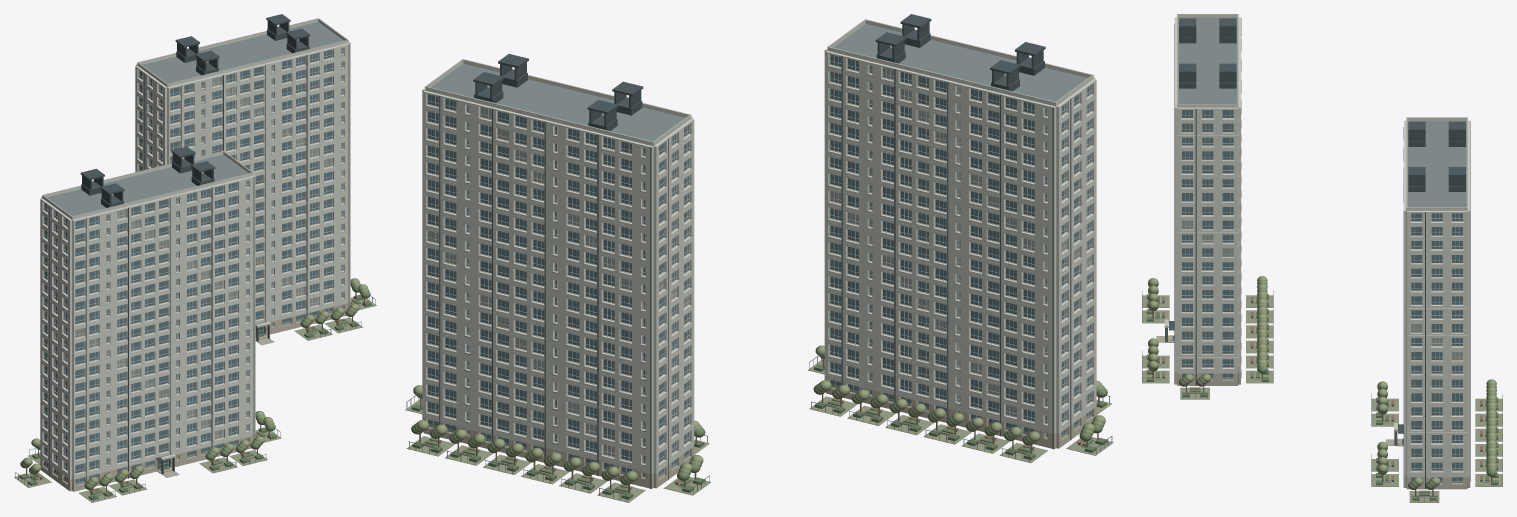
The picture shows the model from 3 angles, left to right: view 1: azimuth 30°, elevation 25°; view 2: azimuth 150°, elevation 25°; view 3: azimuth 270°, elevation 25°; orthographic projection. The views are drawn at different scales.
Parts seen in each view (by area): view 1: korean-facade-parts-d9dcd3, korean-facade-surface-69858d, korean-facade-parts-e0dfd3, korean-facade-parts-505f63, new-1, korean-facade-surface-9eaaa4, korean-facade-parts-c5c0ae, korean-facade-parts-9ba48a, korean-facade-parts-b8bcb2, korean-facade-parts-94a17c, korean-facade-parts-778b69, korean-facade-parts-718669 (+2 smaller); view 2: korean-facade-parts-d9dcd3, korean-facade-surface-69858d, korean-facade-parts-e0dfd3, korean-facade-parts-505f63, new-1, korean-facade-parts-9ba48a, korean-facade-surface-9eaaa4, korean-facade-parts-c5c0ae, korean-facade-parts-94a17c, korean-facade-parts-718669, korean-facade-parts-b8bcb2, korean-facade-parts-778b69 (+3 smaller); view 3: korean-facade-parts-d9dcd3, korean-facade-surface-69858d, new-1, korean-facade-parts-e0dfd3, korean-facade-parts-505f63, korean-facade-parts-9ba48a, korean-facade-parts-94a17c, korean-facade-parts-889976, korean-facade-surface-d9dcd3, korean-facade-parts-b8bcb2, korean-facade-parts-c5c0ae, korean-facade-parts-718669 (+5 smaller).
Boxes of the visible parts, bbox=[...] form: korean-facade-parts-d9dcd3: bbox=[40, 19, 350, 479]; korean-facade-surface-69858d: bbox=[44, 48, 343, 482]; korean-facade-parts-e0dfd3: bbox=[43, 48, 343, 473]; korean-facade-parts-505f63: bbox=[49, 14, 349, 490]; new-1: bbox=[47, 22, 343, 216]; korean-facade-surface-9eaaa4: bbox=[44, 77, 343, 439]; korean-facade-parts-c5c0ae: bbox=[40, 302, 350, 491]; korean-facade-parts-9ba48a: bbox=[14, 297, 376, 502]; korean-facade-parts-b8bcb2: bbox=[42, 18, 348, 217]; korean-facade-parts-94a17c: bbox=[23, 278, 367, 484]; korean-facade-parts-778b69: bbox=[20, 285, 370, 490]; korean-facade-parts-718669: bbox=[19, 294, 371, 500]; korean-facade-parts-d9dcd3: bbox=[422, 20, 1096, 473]; korean-facade-surface-69858d: bbox=[428, 54, 1091, 474]; korean-facade-parts-e0dfd3: bbox=[427, 54, 1091, 463]; korean-facade-parts-505f63: bbox=[439, 14, 1071, 488]; new-1: bbox=[431, 24, 1087, 447]; korean-facade-parts-9ba48a: bbox=[405, 359, 1113, 502]; korean-facade-surface-9eaaa4: bbox=[428, 67, 1091, 456]; korean-facade-parts-c5c0ae: bbox=[422, 377, 1096, 488]; korean-facade-parts-94a17c: bbox=[413, 345, 1105, 481]; korean-facade-parts-718669: bbox=[411, 364, 1107, 499]; korean-facade-parts-b8bcb2: bbox=[425, 19, 1094, 142]; korean-facade-parts-778b69: bbox=[411, 357, 1107, 485]; korean-facade-parts-d9dcd3: bbox=[1174, 15, 1470, 477]; korean-facade-surface-69858d: bbox=[1182, 110, 1462, 482]; new-1: bbox=[1178, 17, 1466, 207]; korean-facade-parts-e0dfd3: bbox=[1181, 105, 1463, 471]; korean-facade-parts-505f63: bbox=[1169, 18, 1470, 489]; korean-facade-parts-9ba48a: bbox=[1142, 295, 1502, 502]; korean-facade-parts-94a17c: bbox=[1148, 276, 1496, 485]; korean-facade-parts-889976: bbox=[1148, 281, 1496, 487]; korean-facade-surface-d9dcd3: bbox=[1181, 110, 1463, 481]; korean-facade-parts-b8bcb2: bbox=[1177, 14, 1467, 208]; korean-facade-parts-c5c0ae: bbox=[1174, 372, 1470, 489]; korean-facade-parts-718669: bbox=[1146, 294, 1498, 500].
Bounding box in the file's own units: 104 × 63.79 × 70.8.
